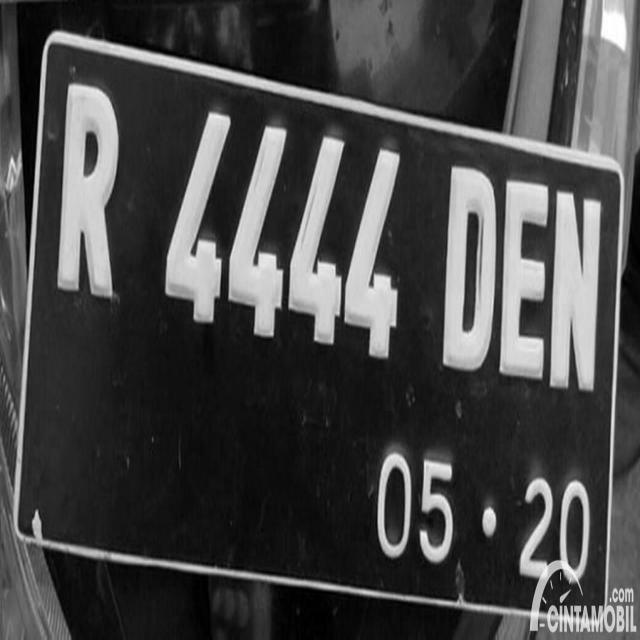4: (146, 85, 224, 336), (223, 118, 295, 336), (340, 150, 412, 356), (293, 118, 343, 356)
D: (440, 160, 494, 386)
E: (493, 172, 551, 386)
N: (550, 170, 600, 392)
R: (48, 78, 124, 308)
